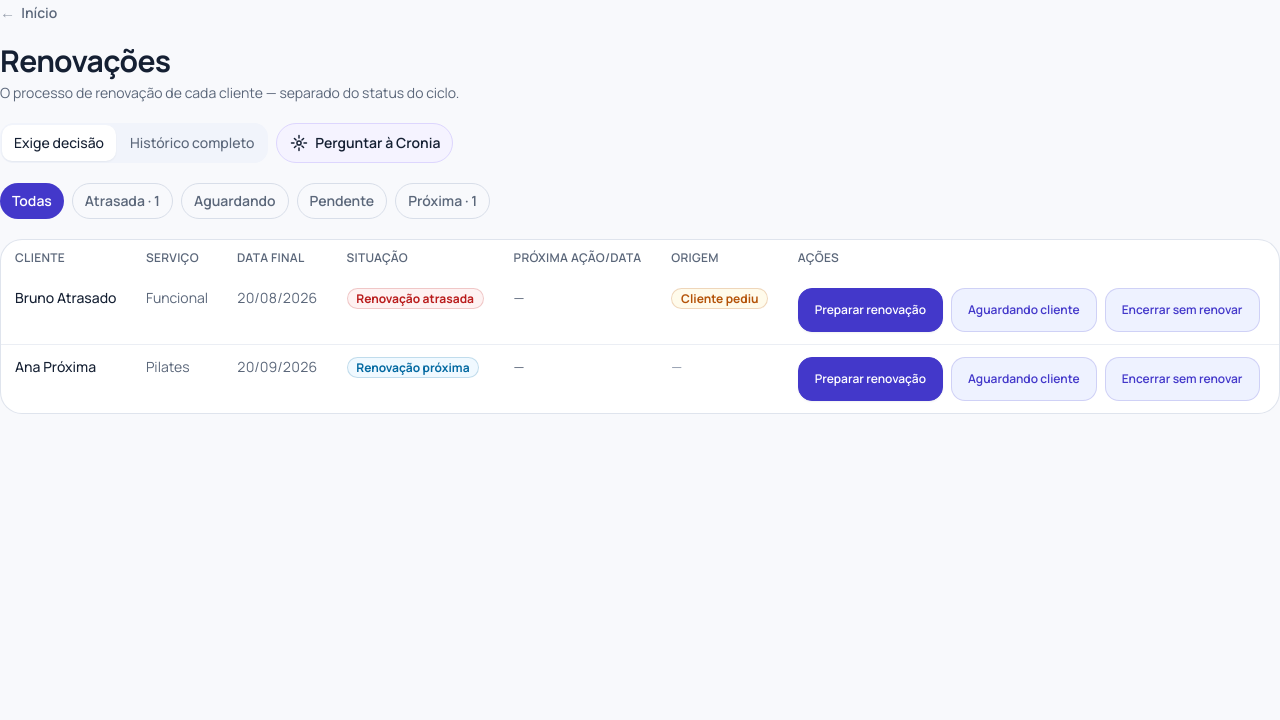
Test: RenewalsPage — só o que exige decisão por padrão, nunca duplica a Central de Ciclos › marking a case awaiting client requires a date and updates the row on success
Click the button "Aguardando cliente" in the row of "Bruno Atrasado". click: (1024, 310)
box: top-left (951, 288), bottom-right (1097, 332)
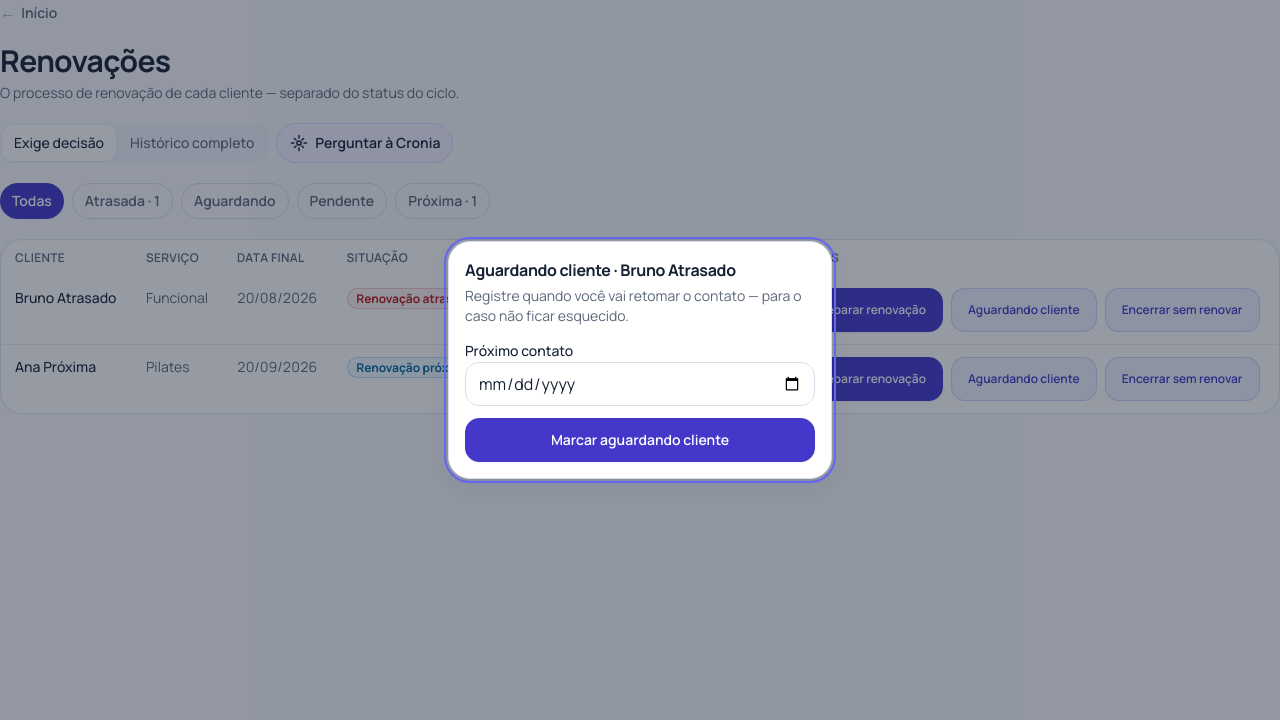
Click the button "Marcar aguardando cliente". click: (640, 440)
box: top-left (465, 418), bottom-right (815, 462)
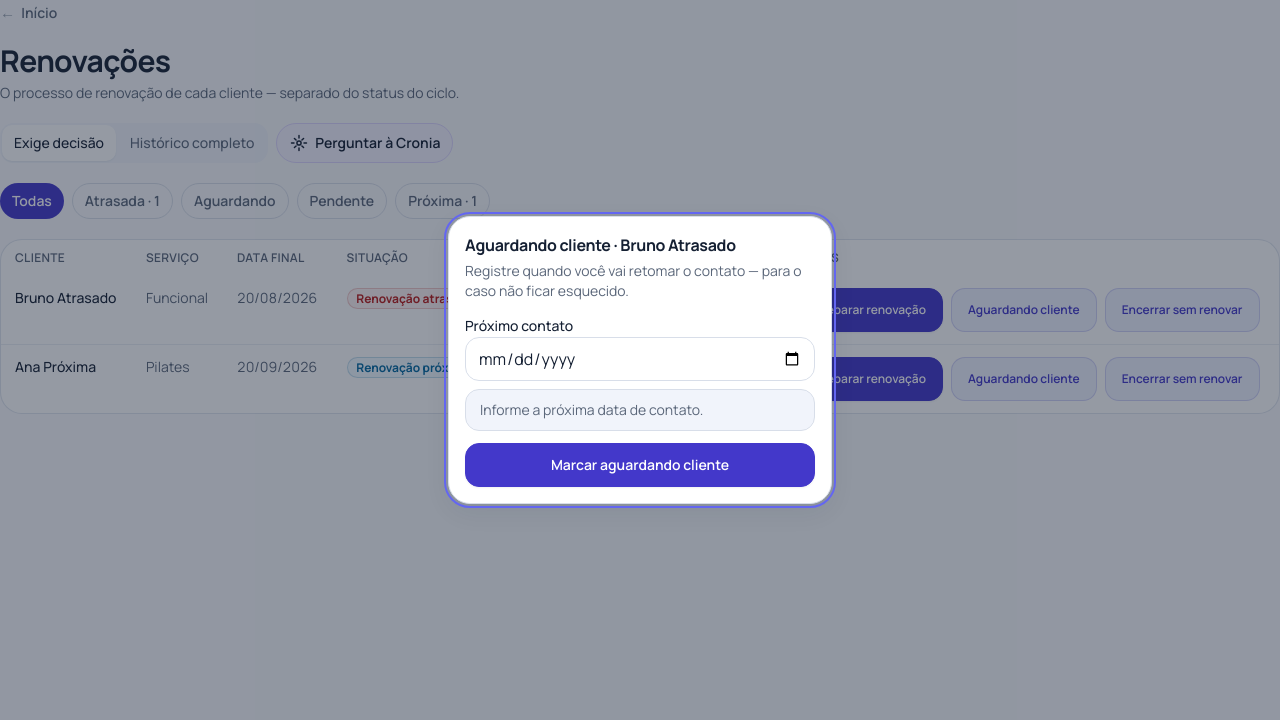
Result: the text "Informe a próxima data de contato." is shown at top-left (480, 400), bottom-right (703, 420)
